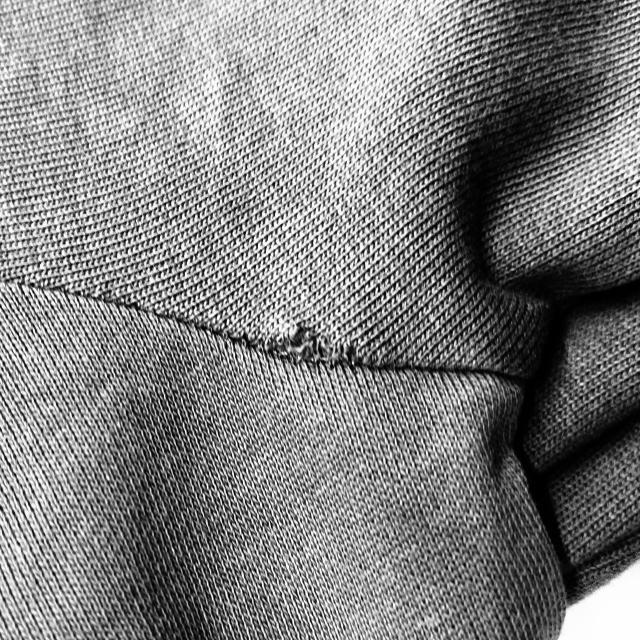Sewing_error: (236, 317, 388, 382)
